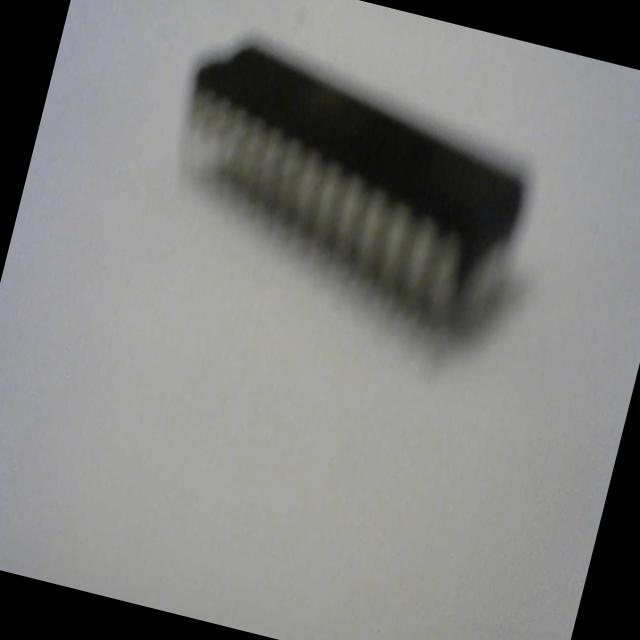atmega: (141, 17, 554, 351)
